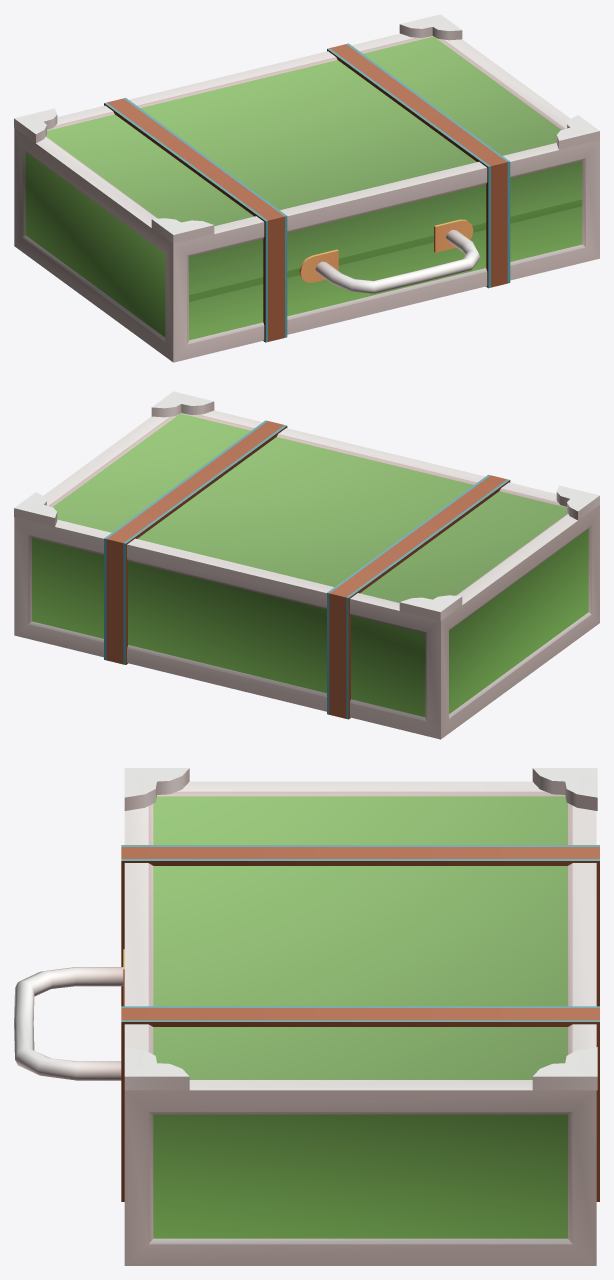
Rendered from Doll_OB_Bag_003.fbx.
3 views of the same model, one above another, from view 1: azimuth 30°, elevation 25°; view 2: azimuth 150°, elevation 25°; view 3: azimuth 270°, elevation 25° (orthographic). The views are drawn at different scales.
Parts seen in each view (by area): view 1: Doll_OB_Bag_003; view 2: Doll_OB_Bag_003; view 3: Doll_OB_Bag_003.
Part boxes in pixels (x1,y1,x2,y2): Doll_OB_Bag_003: (14,14,599,362); Doll_OB_Bag_003: (14,391,599,739); Doll_OB_Bag_003: (14,768,599,1265).
Size of the model in its own units: 54.35 by 15.7 by 43.61.
Materials: 1 (1 with a texture image).
